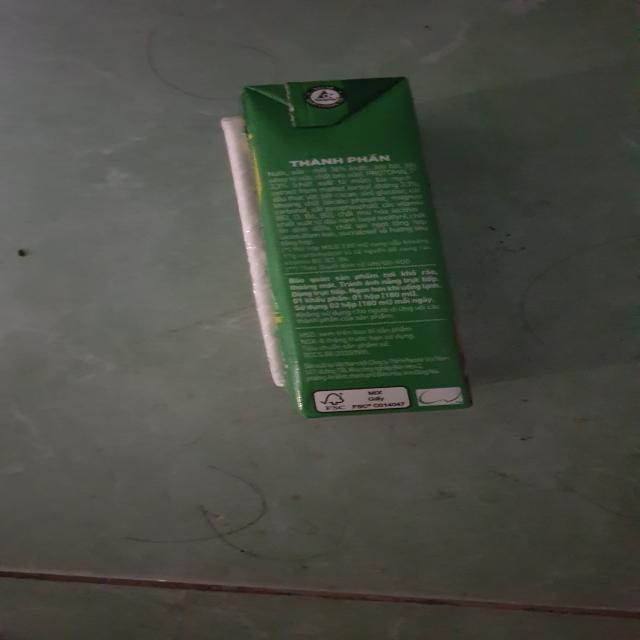Milo: (213, 73, 491, 426)
